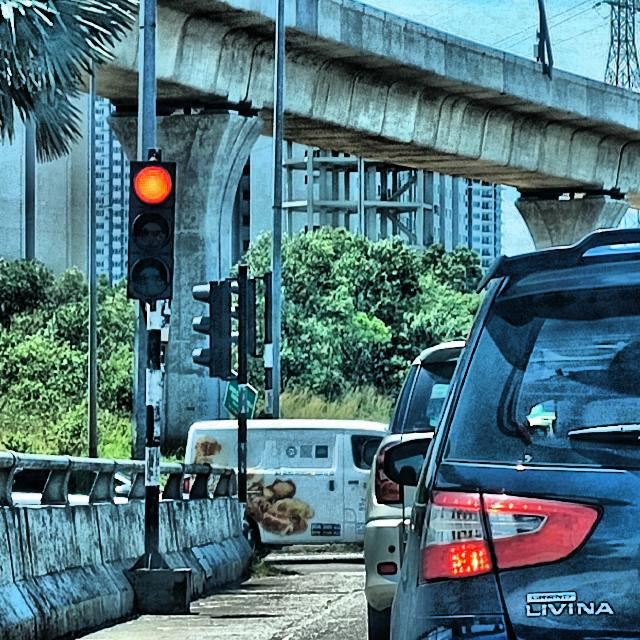red: (125, 160, 175, 302)
